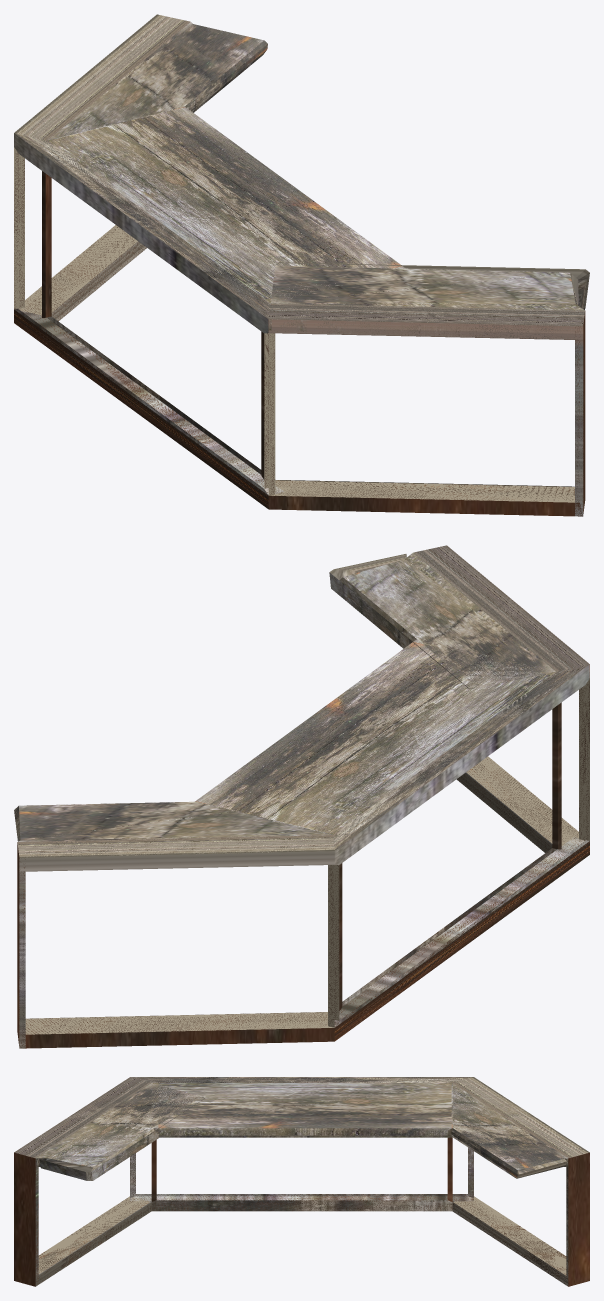
Rendered from Desk.fbx.
The picture shows the model from 3 angles, top to bottom: view 1: azimuth 30°, elevation 25°; view 2: azimuth 150°, elevation 25°; view 3: azimuth 270°, elevation 25°; orthographic projection. The views are drawn at different scales.
Parts seen in each view (by area): view 1: Cube; view 2: Cube; view 3: Cube.
Boxes of the visible parts, x1=… form: Cube: x1=14, y1=14, x2=589, y2=516; Cube: x1=14, y1=545, x2=589, y2=1048; Cube: x1=14, y1=1077, x2=589, y2=1286.
Bounding box in the file's own units: 826 × 522 × 2115.
2 materials, 2 textured.
